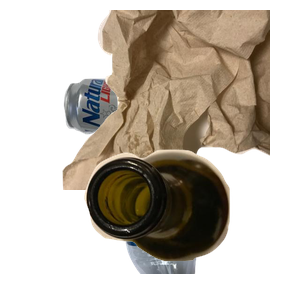glass: (82, 147, 300, 300)
metal: (61, 75, 231, 202)
plastic: (99, 120, 289, 300)
trash: (60, 10, 300, 190)
